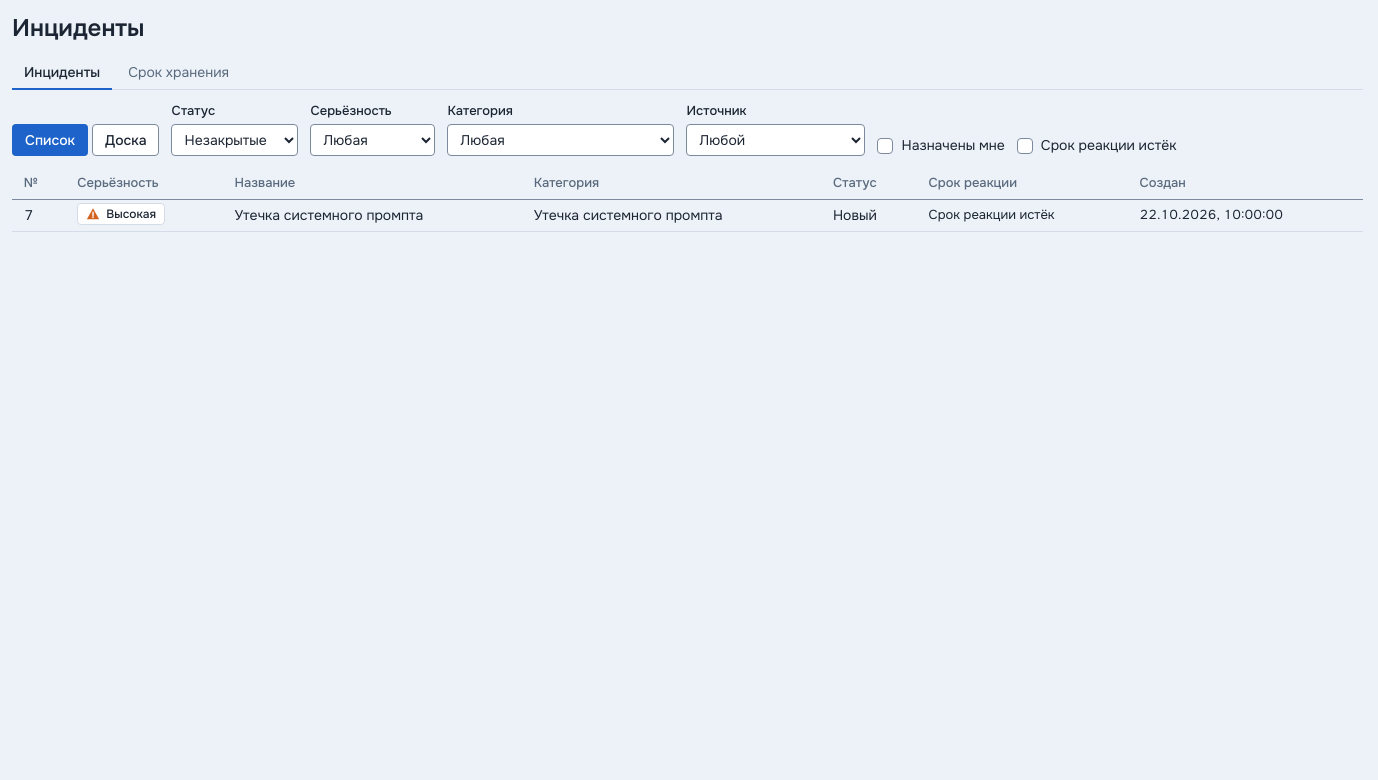
Test: карточка инцидента › без incidents.manage кнопок изменения нет
Click the button with aria-label "Открыть инцидент 7: Утечка системного промпта" at (329, 215), box 234,205 -> 423,226
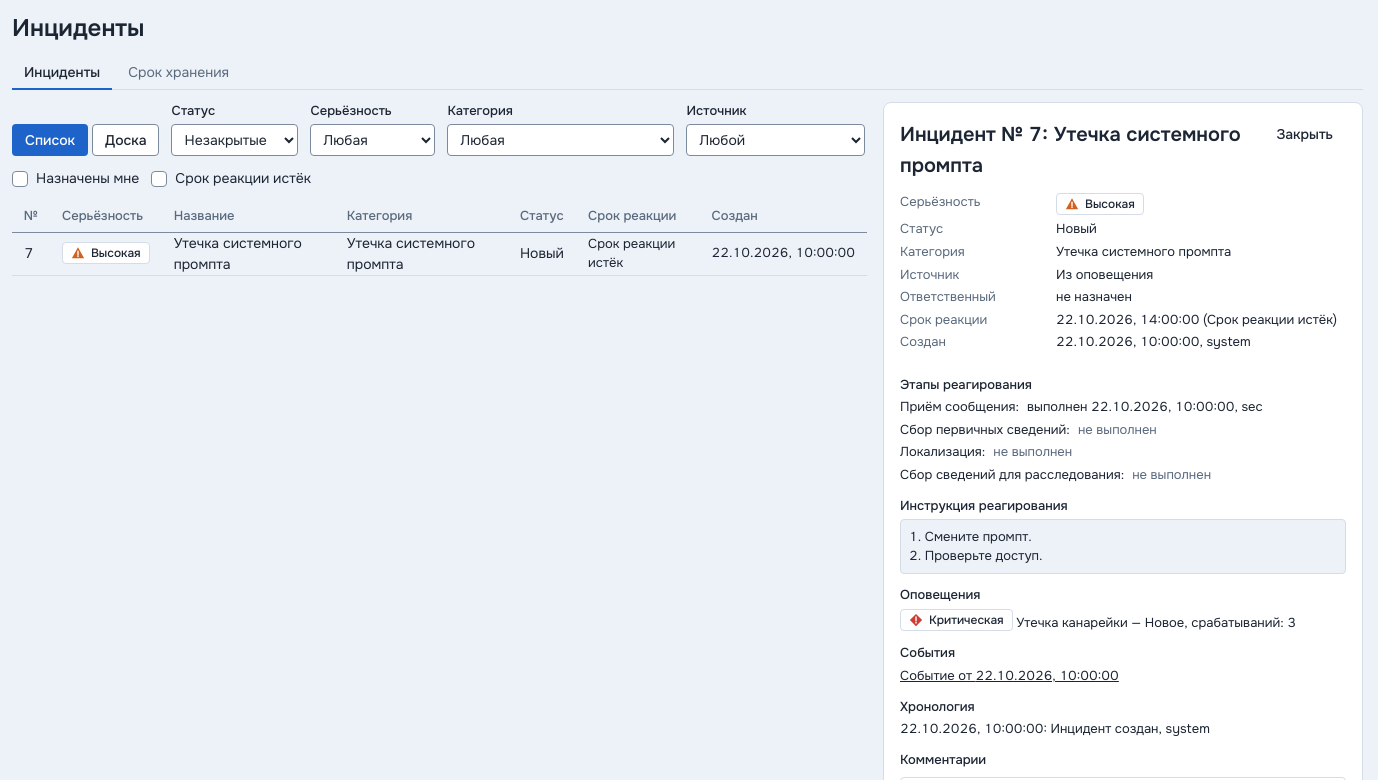
Now the text "Приём сообщения:" is shown, box 900,398 -> 1019,417
